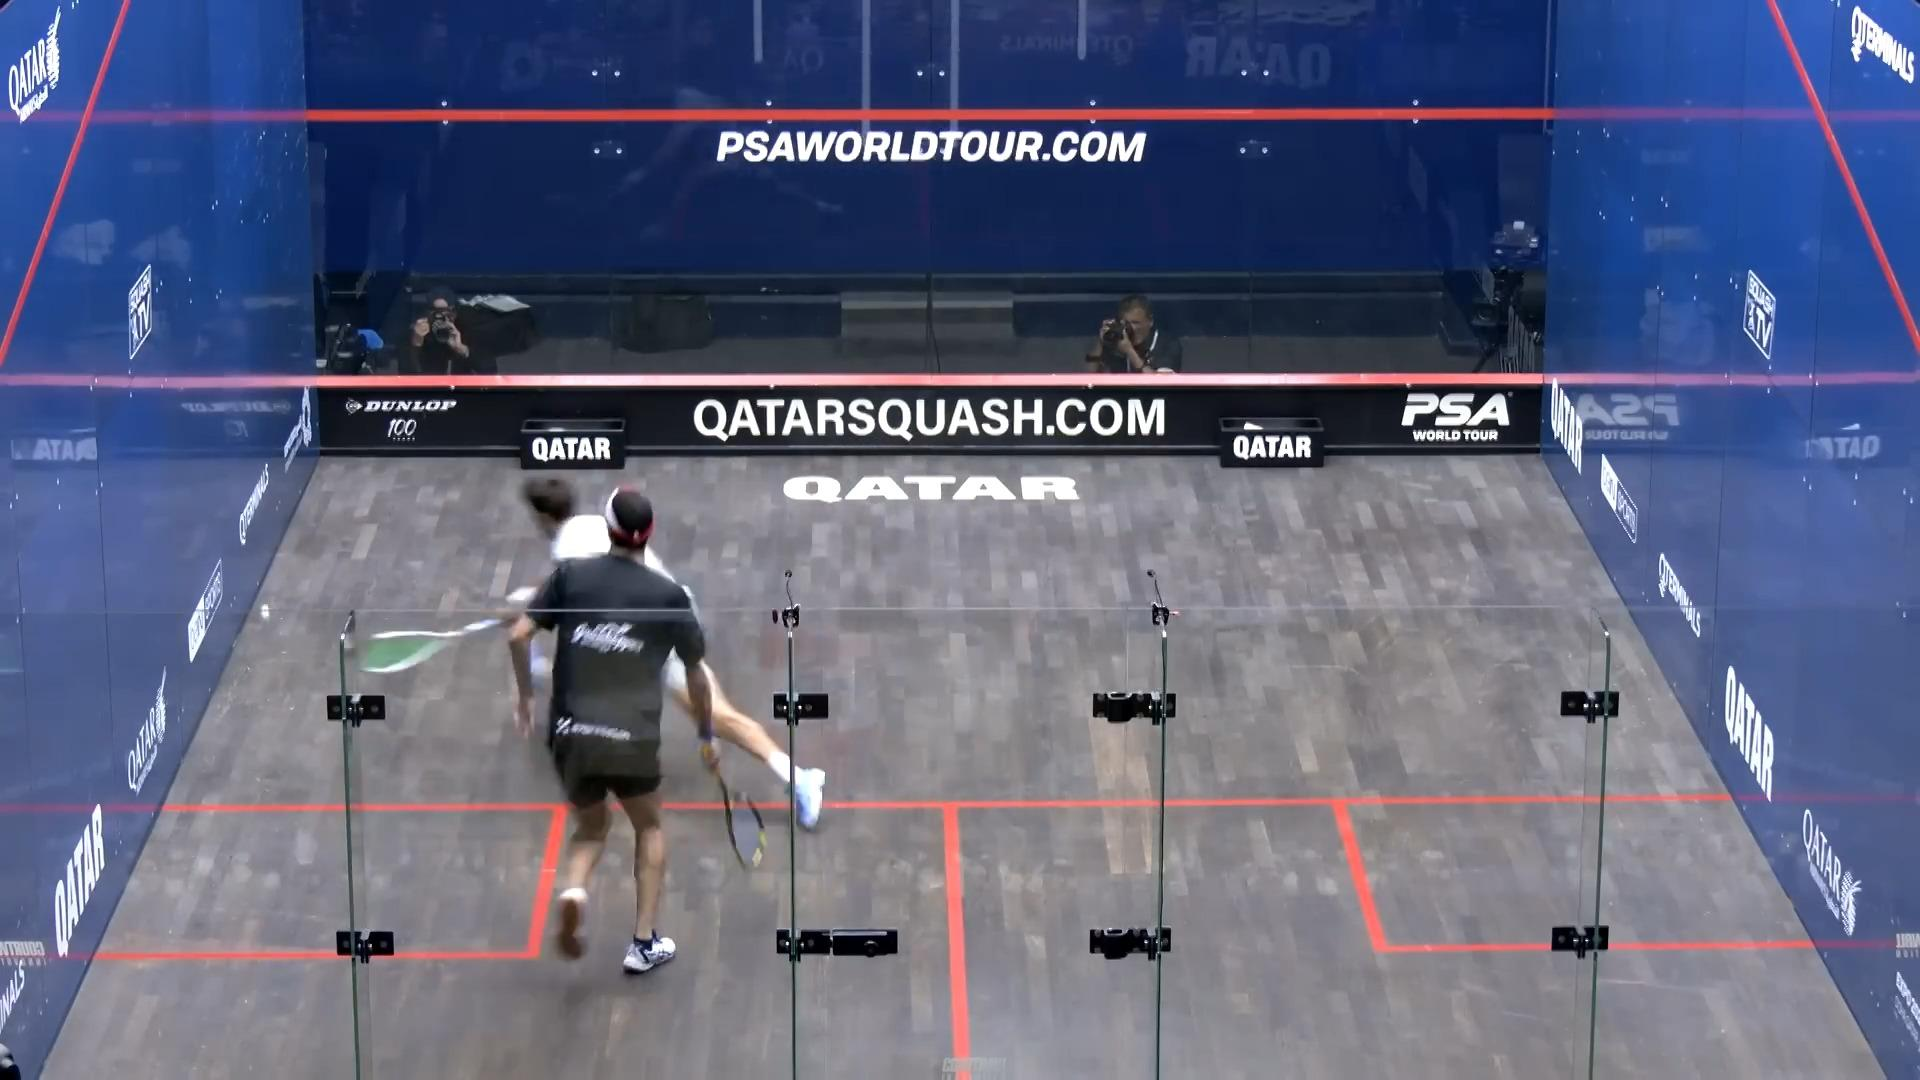Racket: (351, 621, 510, 686), (708, 762, 774, 878)
